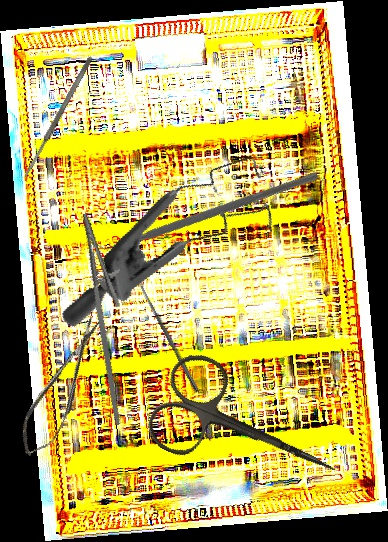Chopper: (86, 87, 320, 330)
Iris Scissors: (140, 345, 357, 519)
Micro Scissor: (9, 312, 116, 463)
Needle Holder: (55, 208, 163, 426)
Spatula Surgical: (20, 55, 95, 180)
Speculum: (58, 109, 297, 385)
Surgical Spoon: (135, 277, 201, 394)
